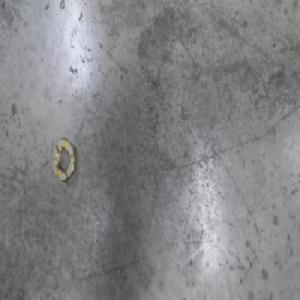Nut: (49, 135, 77, 183)
